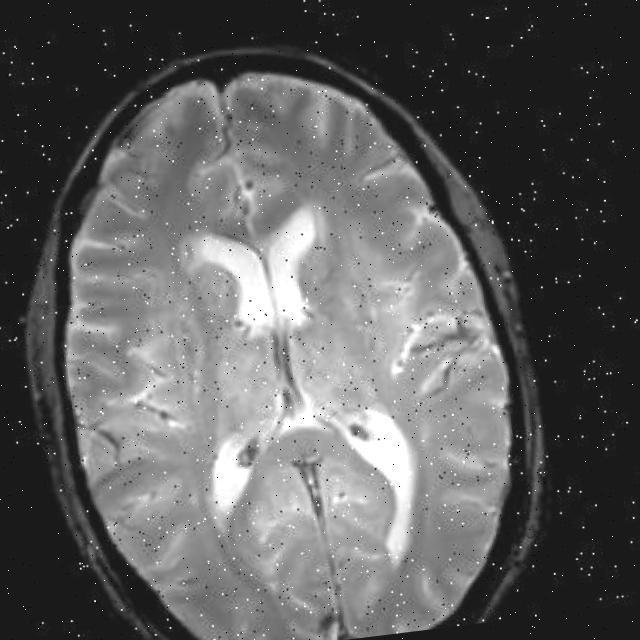CN: (365, 244, 506, 418), (128, 304, 232, 448)
